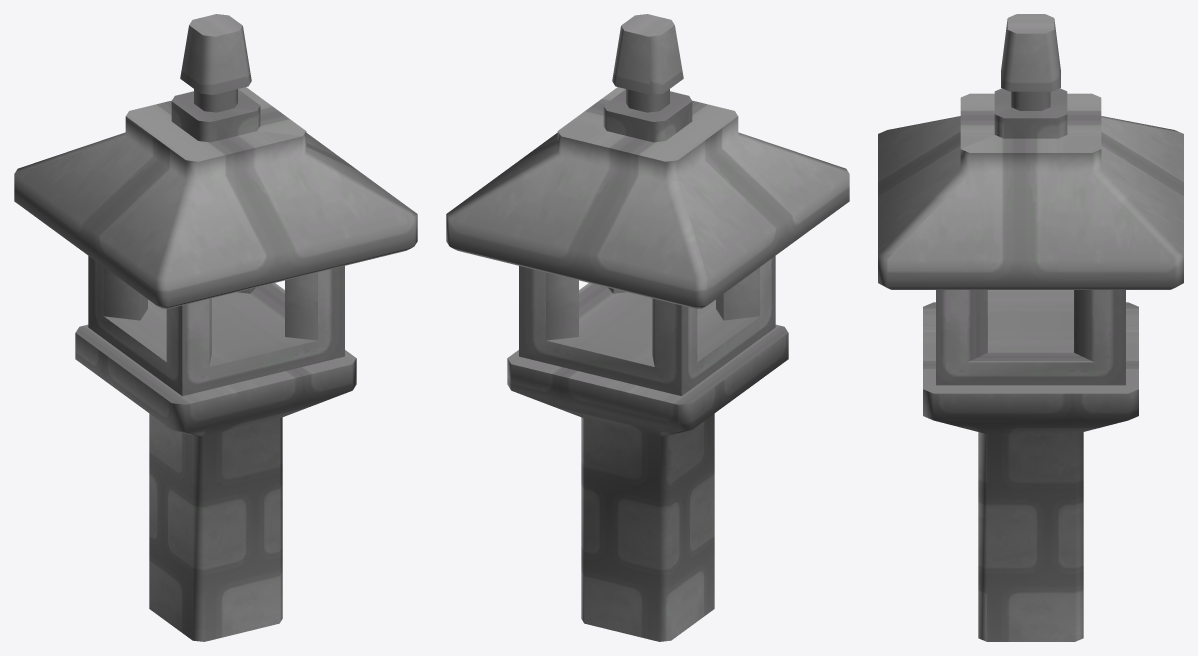
The model's file is Torch.fbx.
3 views of the same model, side by side, from view 1: azimuth 30°, elevation 25°; view 2: azimuth 150°, elevation 25°; view 3: azimuth 270°, elevation 25° (orthographic).
Visible parts, largest first — view 1: Torch; view 2: Torch; view 3: Torch.
Part boxes in pixels (box(x1,y1,x2,y2)): Torch: box(14, 14, 417, 641); Torch: box(446, 14, 849, 641); Torch: box(878, 14, 1183, 641).
Bounding box in the file's own units: 1.15 × 2.47 × 1.15.
